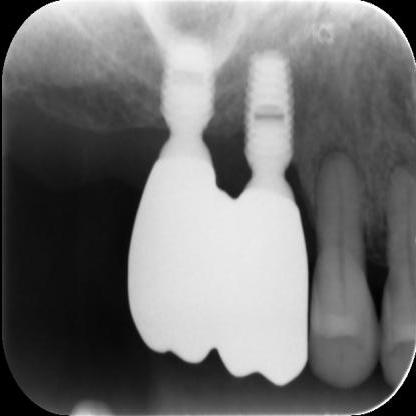Bicon: (235, 50, 302, 172), (150, 44, 224, 148)
